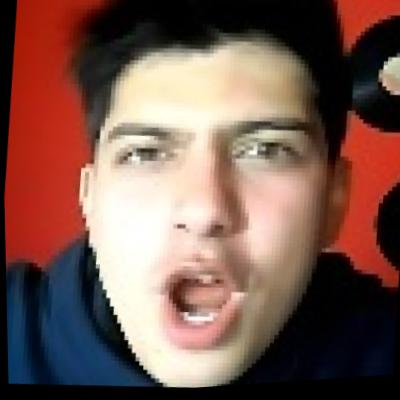angry: (68, 29, 340, 386)
